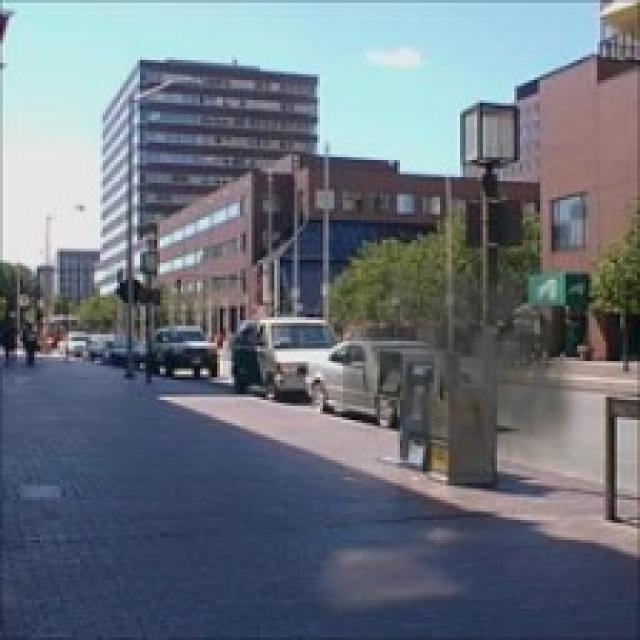Smoke: (342, 226, 588, 477)
